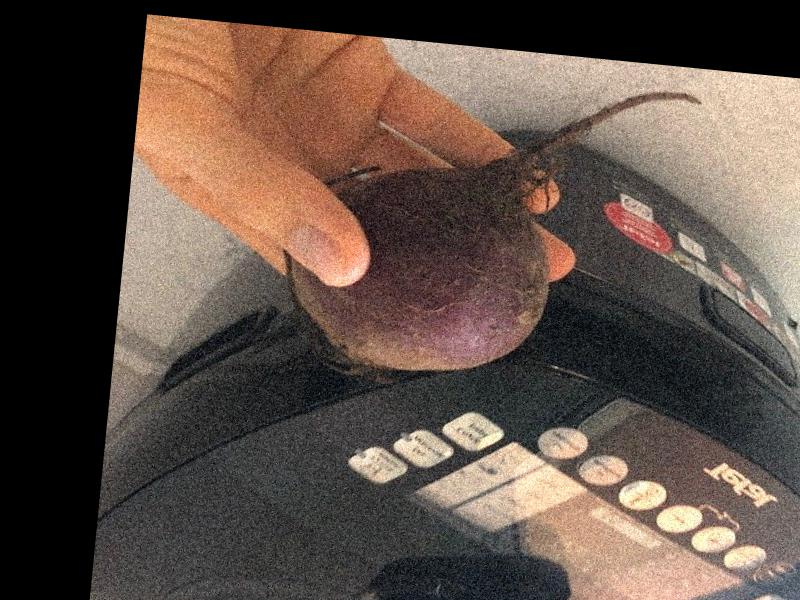Beet: (276, 57, 699, 408)
